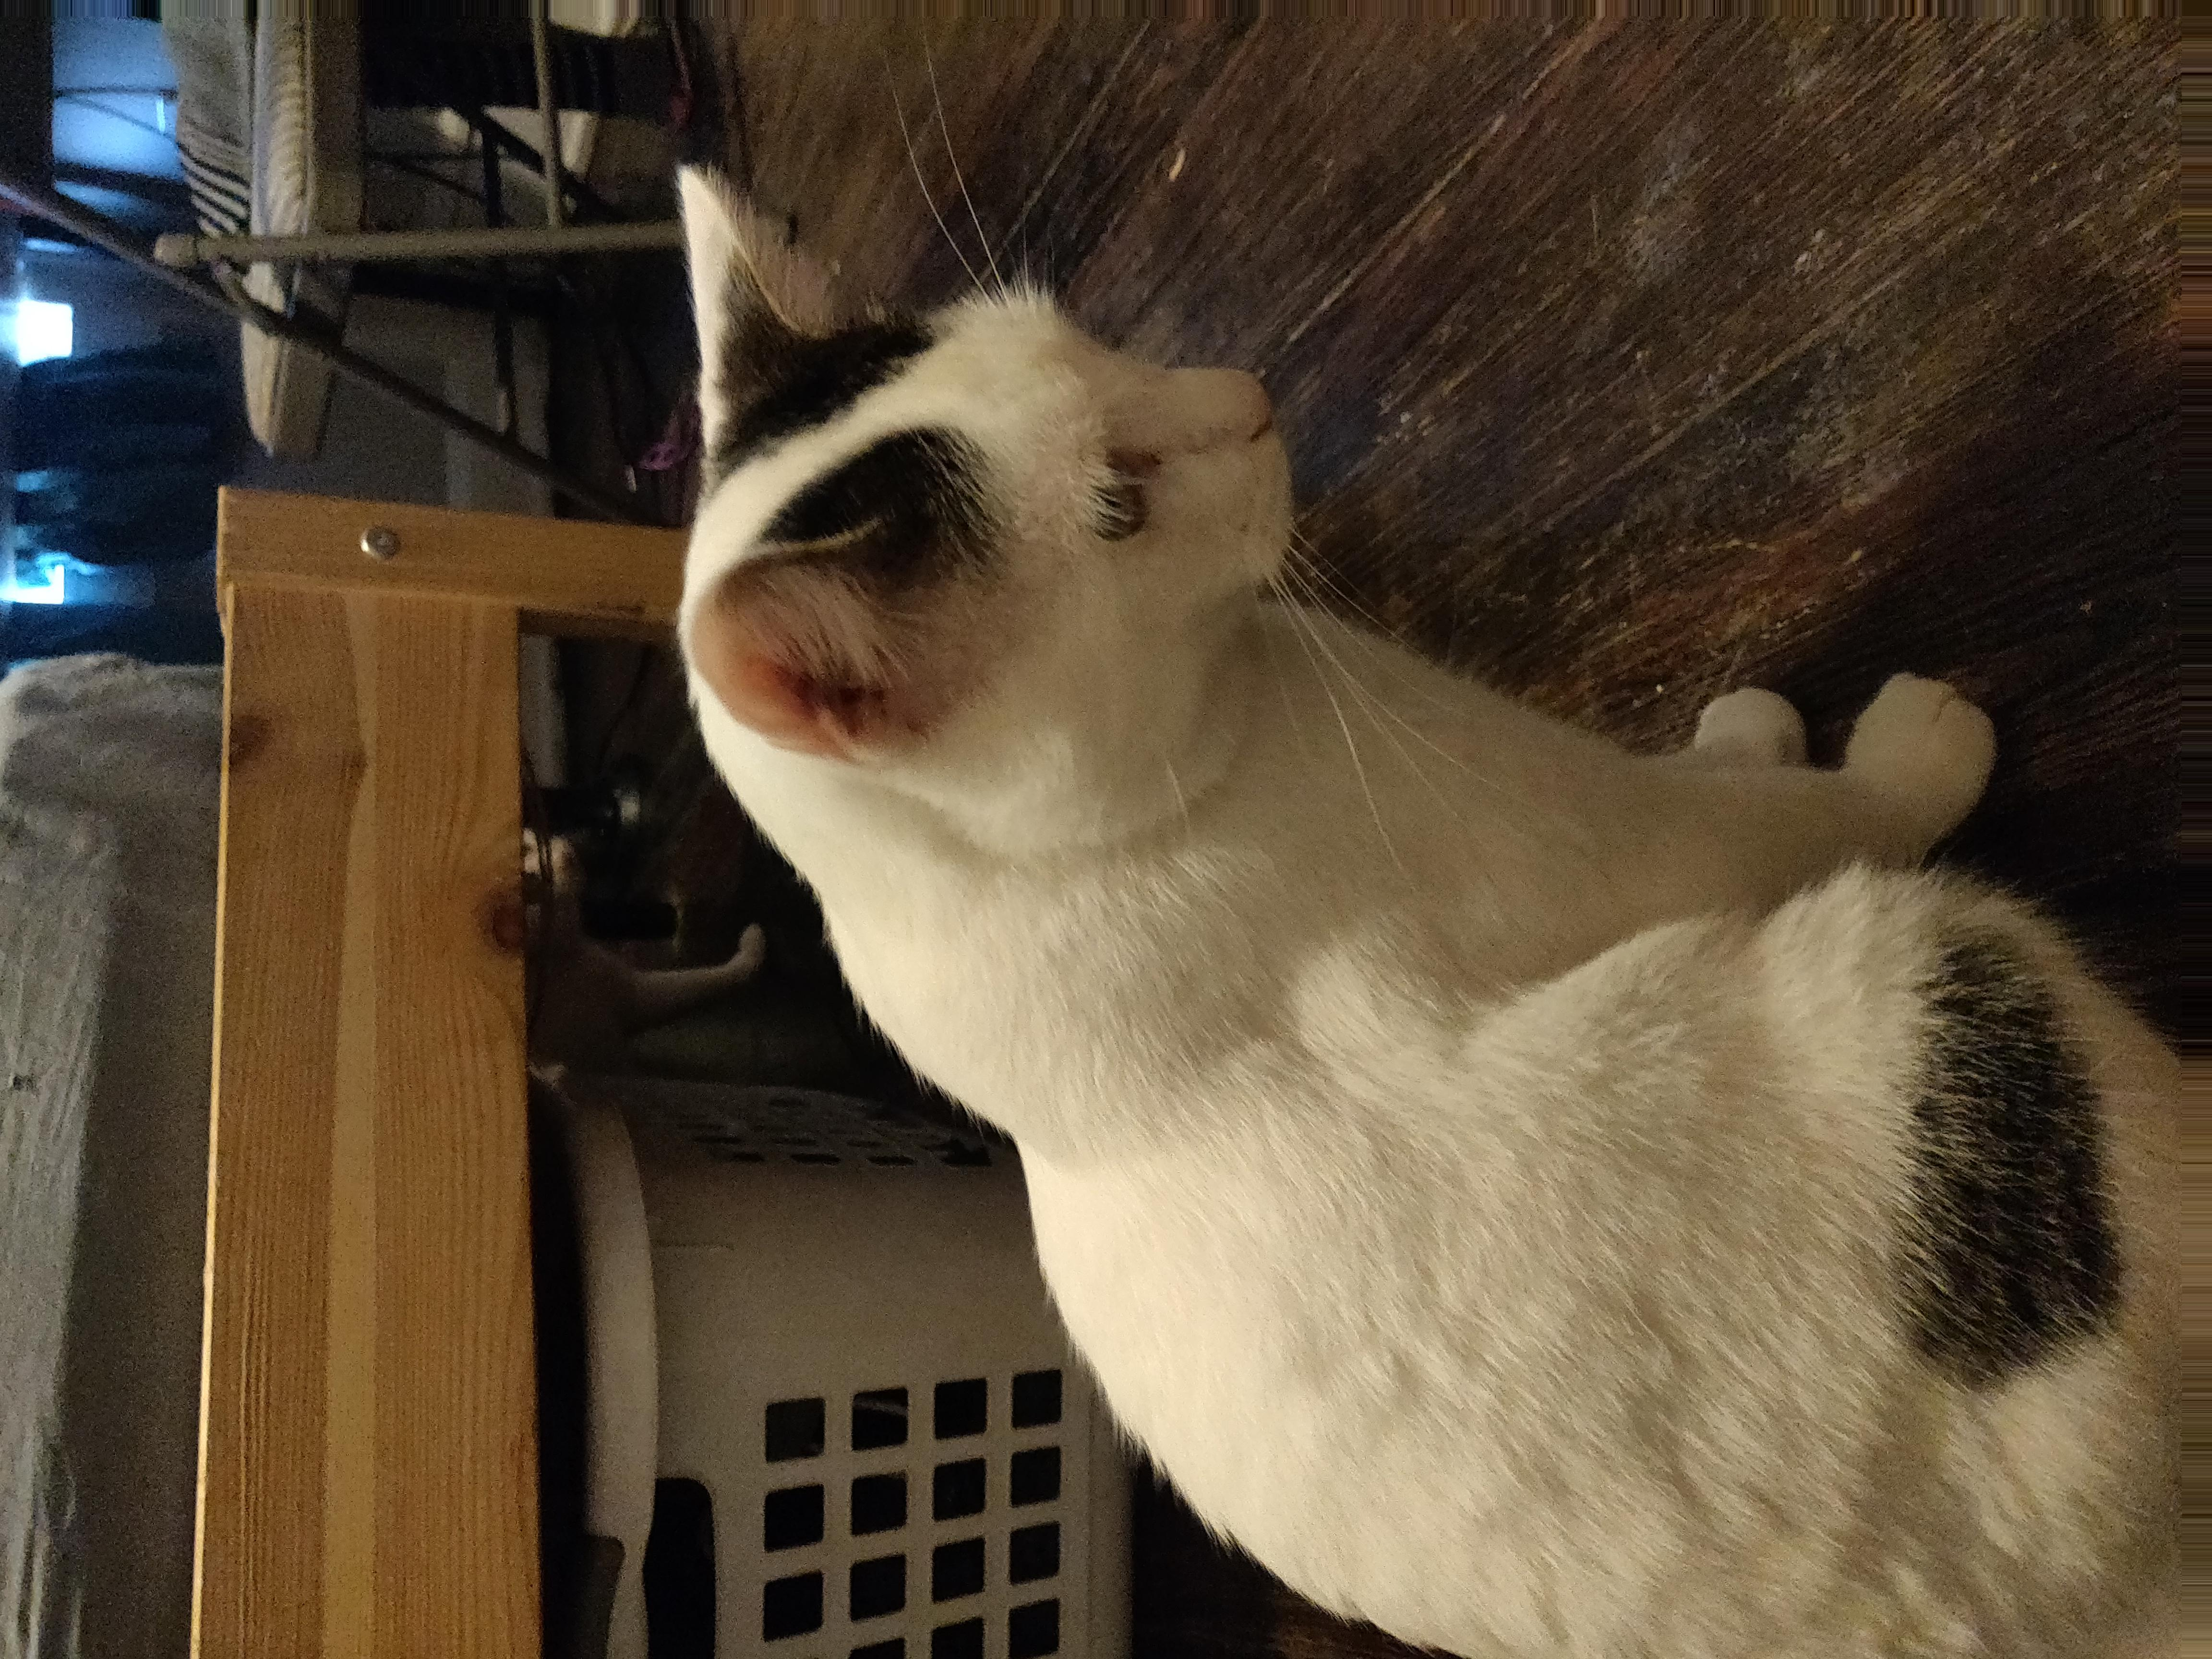cat: (662, 142, 2208, 1659)
